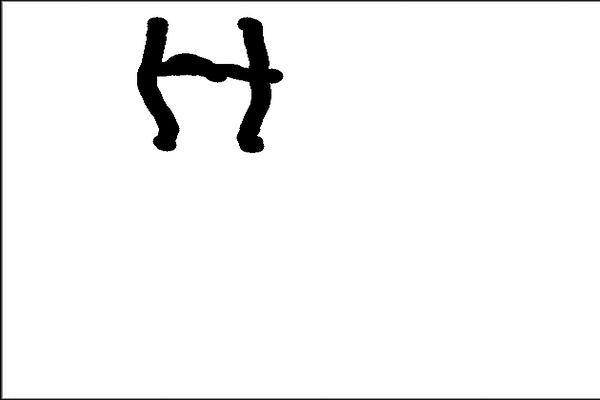H: (131, 11, 286, 159)
